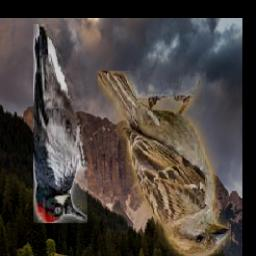Sparrow: (98, 72, 231, 256)
Woodpecker: (33, 24, 87, 223)
